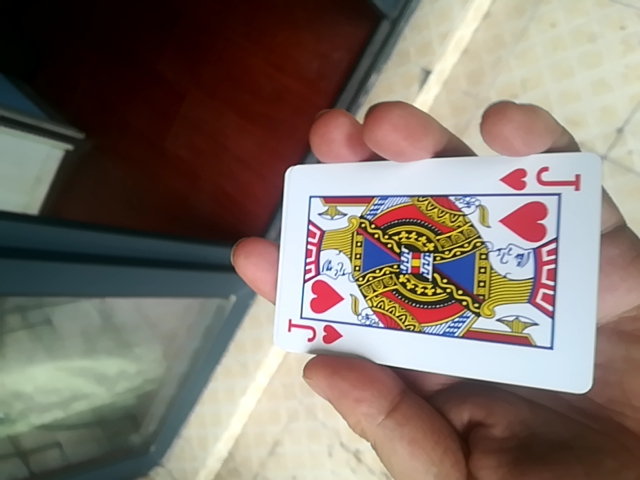hx j: (268, 142, 595, 391)
